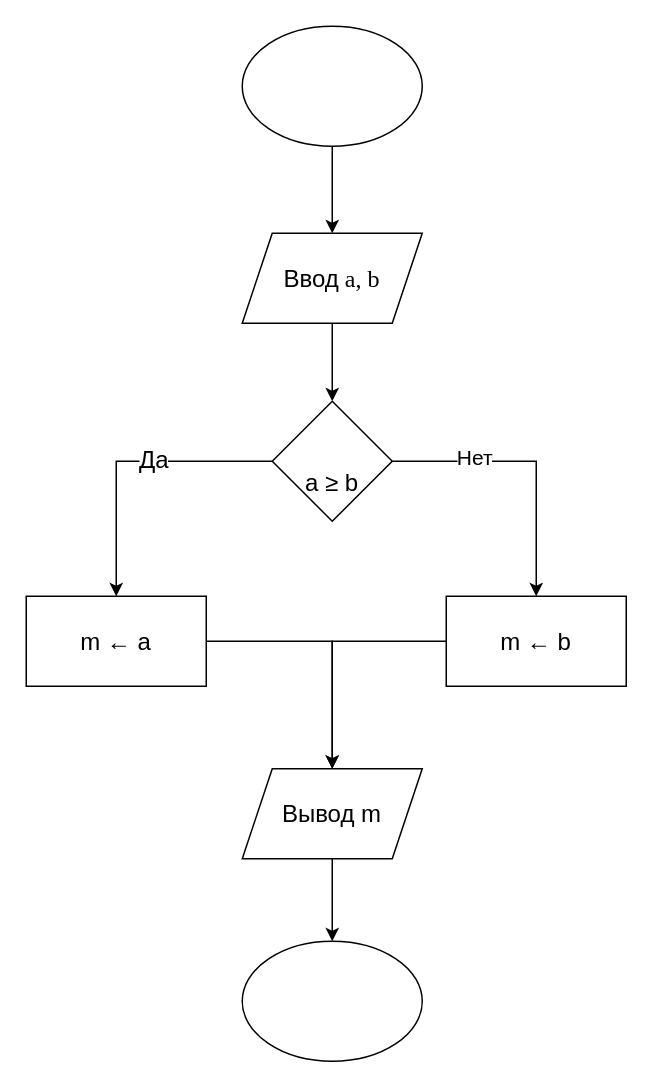
Some shapes in this 653 by 1088 pixel diagram are drawn without their labels. The centre of each missing label's shape, as x and y in pixels:
"Конец" goes at (x=331, y=1000).
"Начало" goes at (x=331, y=85).
